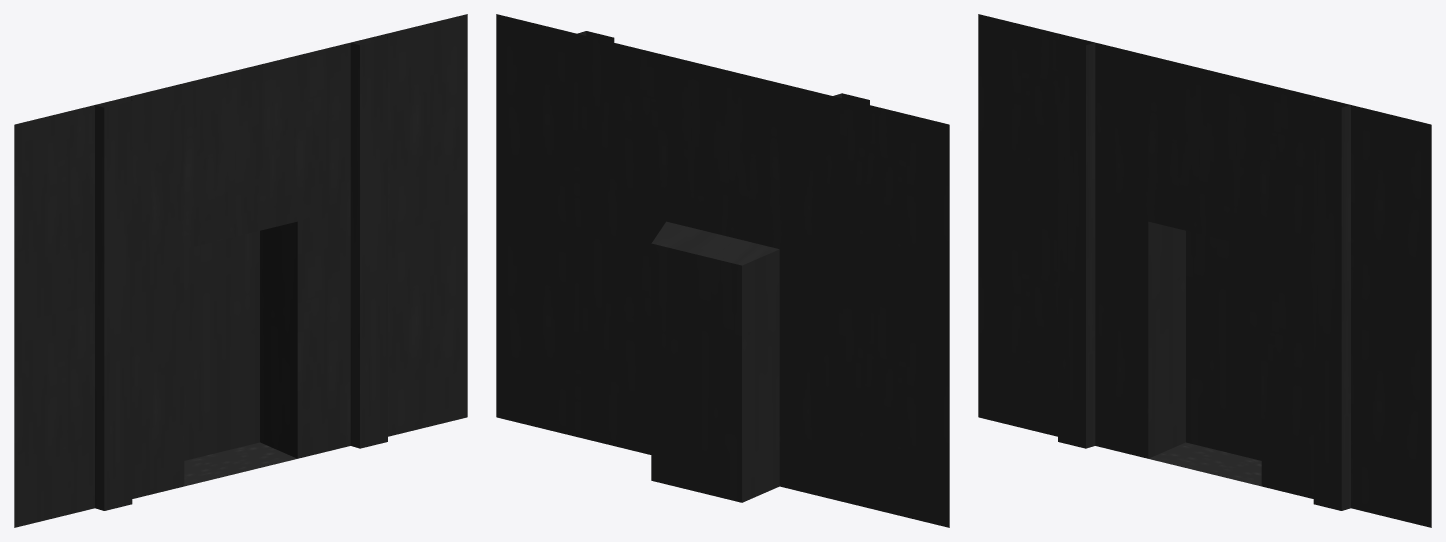
File: SW_ENV_RailTunnelWall_B_02_05m.fbx
3 renders of one model, left to right at view 1: azimuth 30°, elevation 25°; view 2: azimuth 150°, elevation 25°; view 3: azimuth 330°, elevation 25°, orthographic.
Parts seen in each view (by area): view 1: SW_ENV_RailTunnelWall_B_02_05m; view 2: SW_ENV_RailTunnelWall_B_02_05m; view 3: SW_ENV_RailTunnelWall_B_02_05m.
Boxes of the visible parts, x1,y1,x2,y2 form: SW_ENV_RailTunnelWall_B_02_05m: [14, 14, 467, 527]; SW_ENV_RailTunnelWall_B_02_05m: [496, 14, 949, 527]; SW_ENV_RailTunnelWall_B_02_05m: [978, 14, 1431, 527].
Size of the model in its own units: 500 by 425 by 60.
